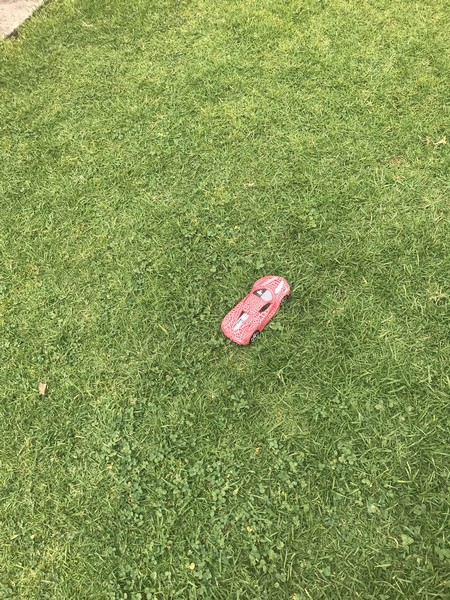RC: (218, 272, 295, 347)
